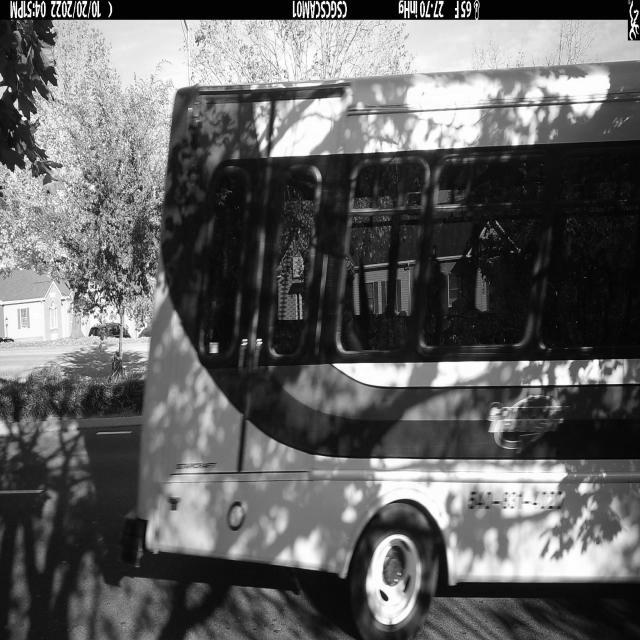Bus- Small: (121, 62, 640, 640)
